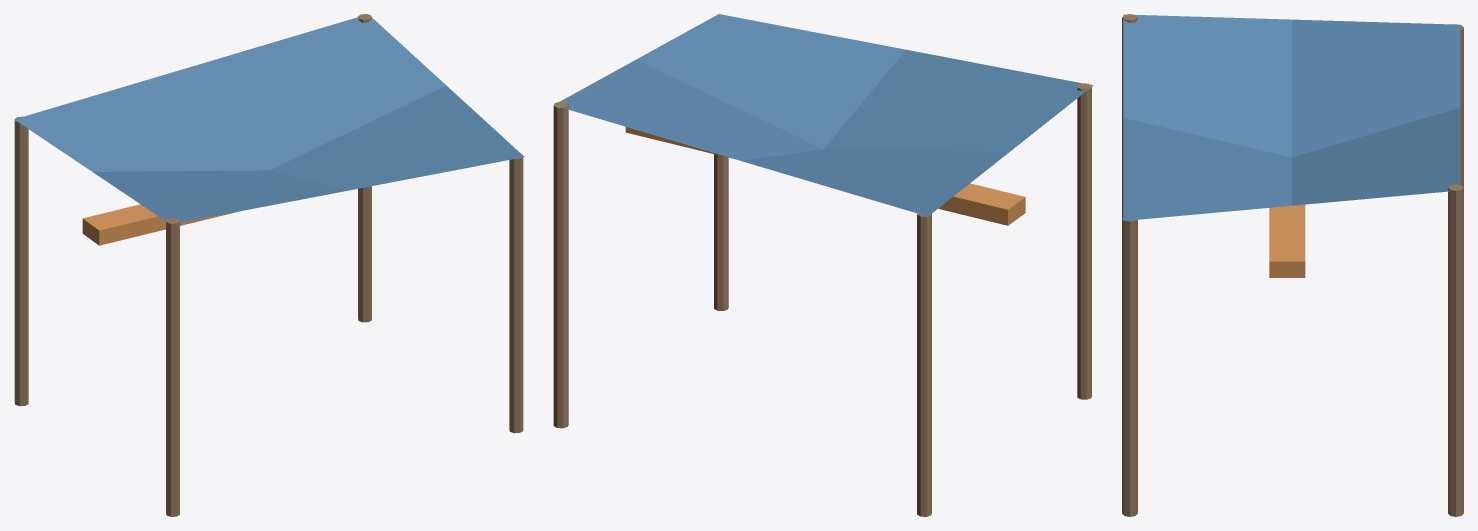
The model's file is env_shanty_tarp.glb.
3 renders of one model, left to right at view 1: azimuth 30°, elevation 25°; view 2: azimuth 150°, elevation 25°; view 3: azimuth 270°, elevation 25°, orthographic. The views are drawn at different scales.
Visible parts, largest first — view 1: env_shanty_tarp; view 2: env_shanty_tarp; view 3: env_shanty_tarp.
Part boxes in pixels (left/top/right/bottom): env_shanty_tarp: left=14, top=14, right=524, bottom=516; env_shanty_tarp: left=553, top=14, right=1093, bottom=516; env_shanty_tarp: left=1122, top=14, right=1463, bottom=516.
Size of the model in its own units: 2 by 1.6 by 1.52.
